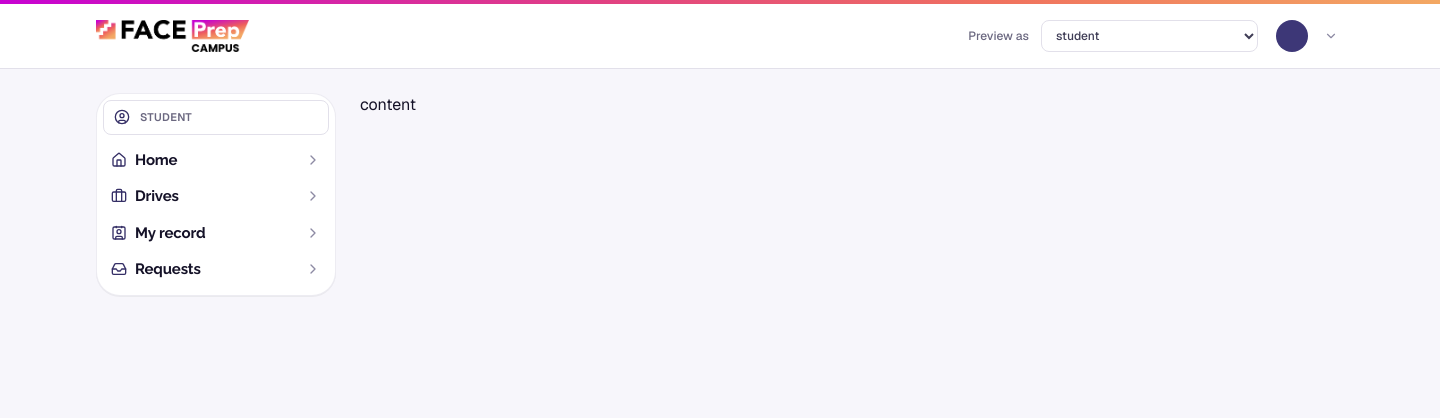
Test: AppShell › switches navigation when previewing a different role
Click the button "Home".
click(216, 160)  # box left=103, top=142, right=329, bottom=177
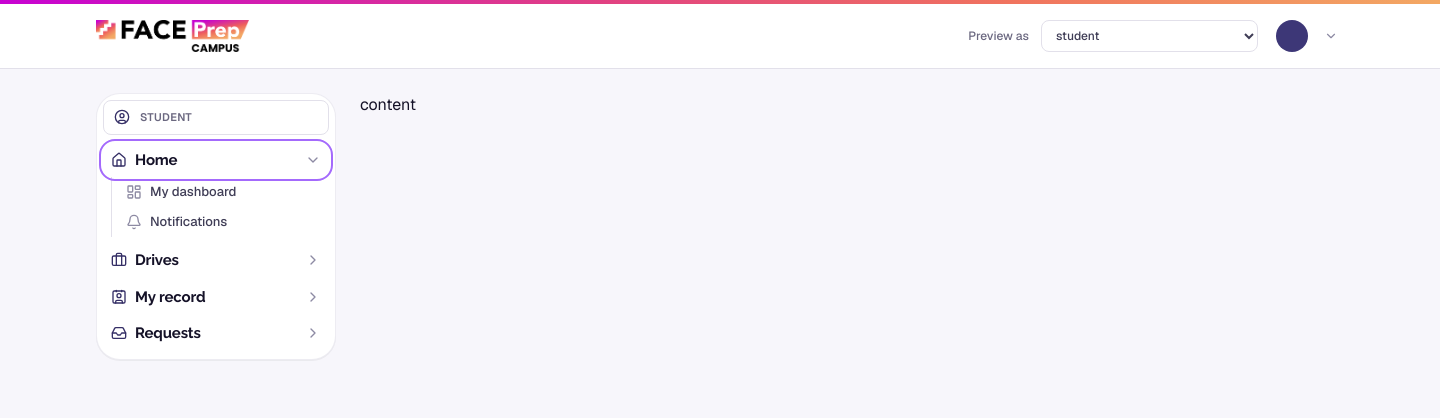
Now the link "My dashboard" is shown, box left=126, top=183, right=236, bottom=200
Select "delivery head" in the dropdown labelled "Preview as" at (1150, 36), box left=1041, top=20, right=1258, bottom=52
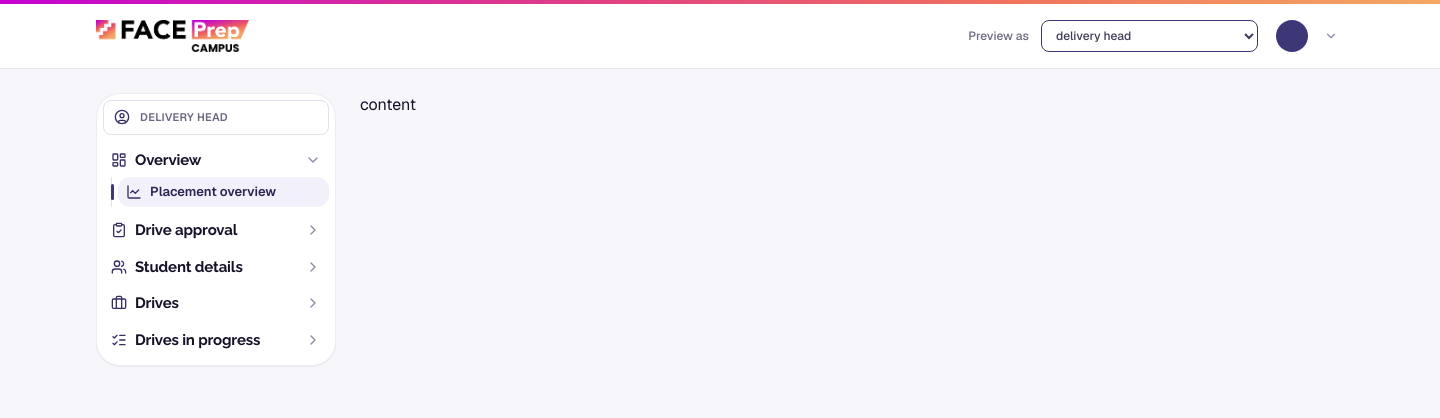
Click the button "Drive approval".
click(216, 230)  # box left=103, top=213, right=329, bottom=248
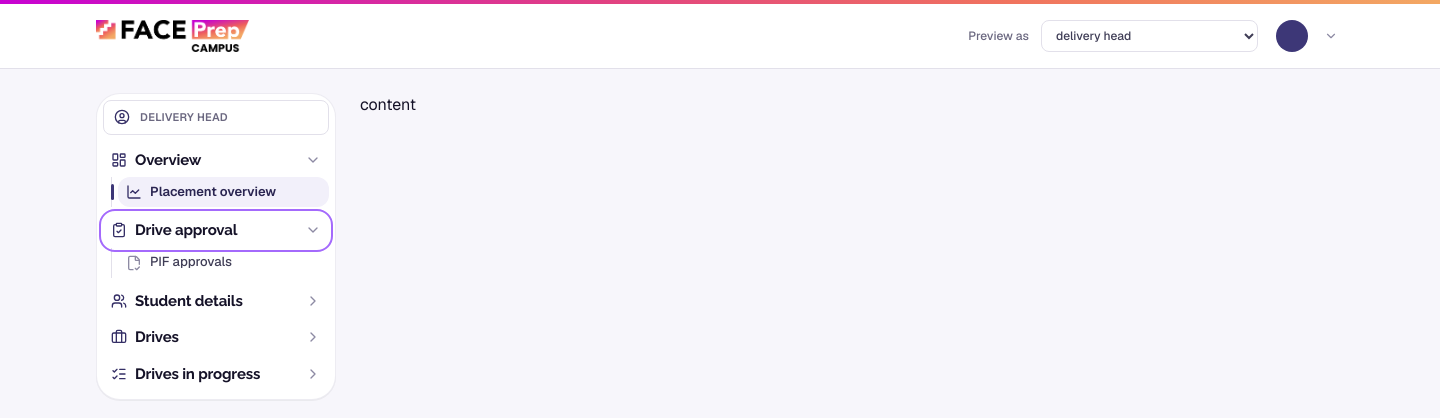
Expected: the link "My dashboard" is not shown
Now the link "PIF approvals" is shown, box left=126, top=253, right=232, bottom=270
